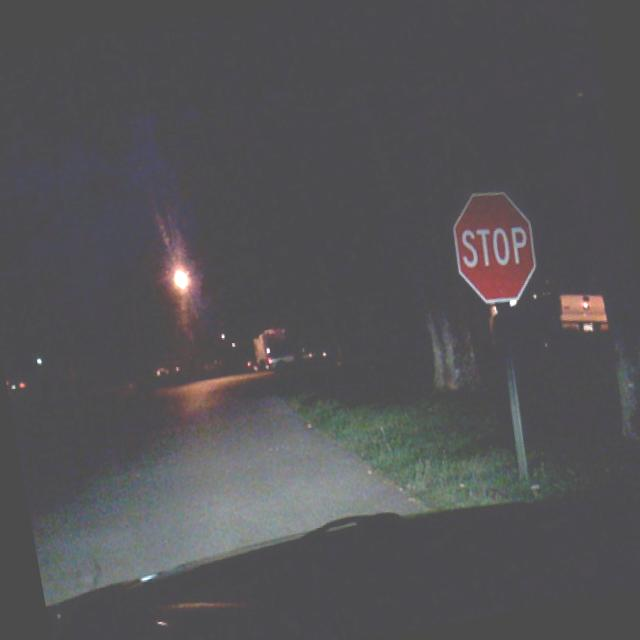Vehicle: (38, 456, 640, 640)
